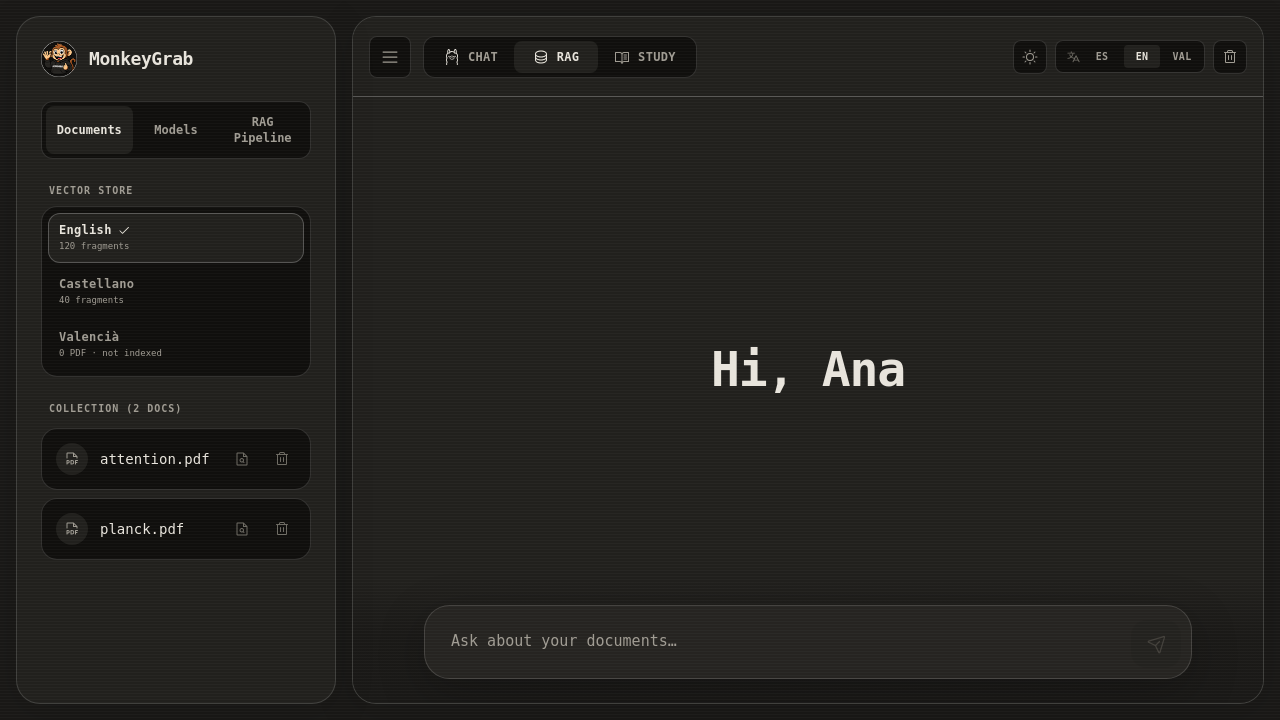
Test case: chat stream handling › sends chat mode to /api/chat
Expected: the text box with placeholder "Ask about your documents…" is shown, top-left (435, 616), bottom-right (1119, 668)
Click the button "CHAT".
click(471, 56)  # box top-left (428, 40), bottom-right (514, 72)
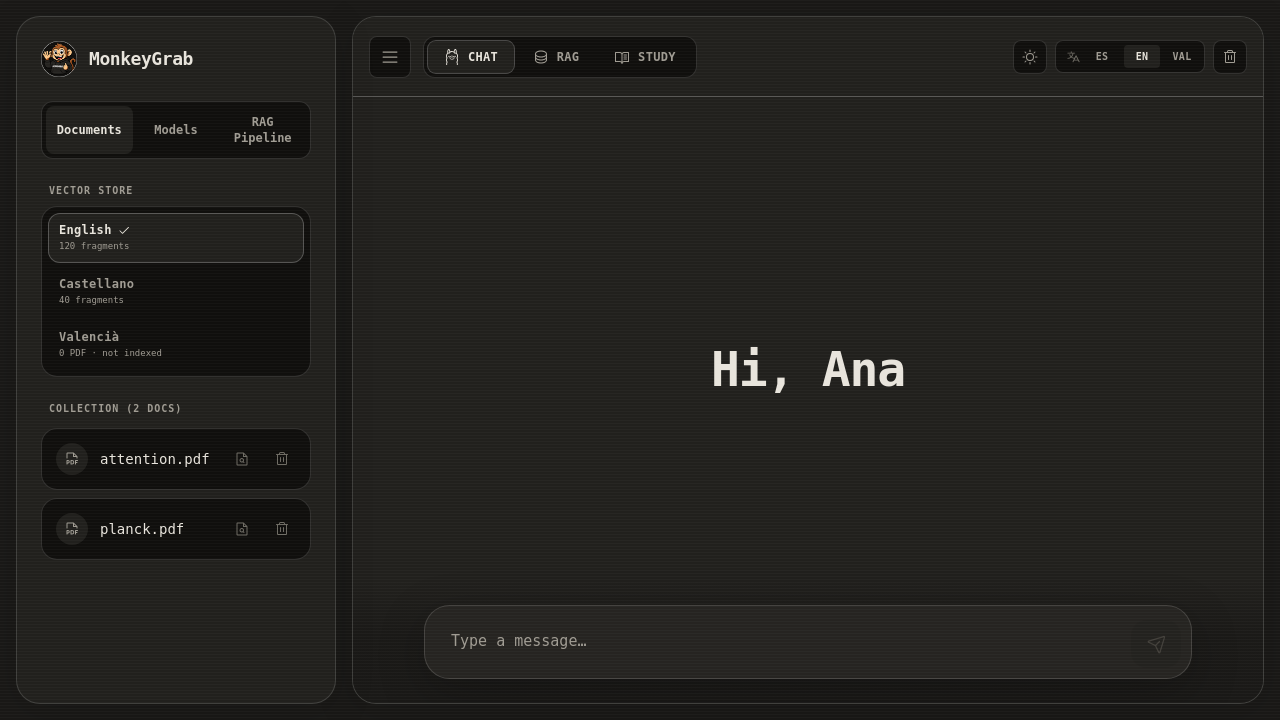
Type "hi" into the text box with placeholder "Type a message…".
click(777, 642); type("hi")  # box top-left (435, 616), bottom-right (1119, 668)
Then press Enter
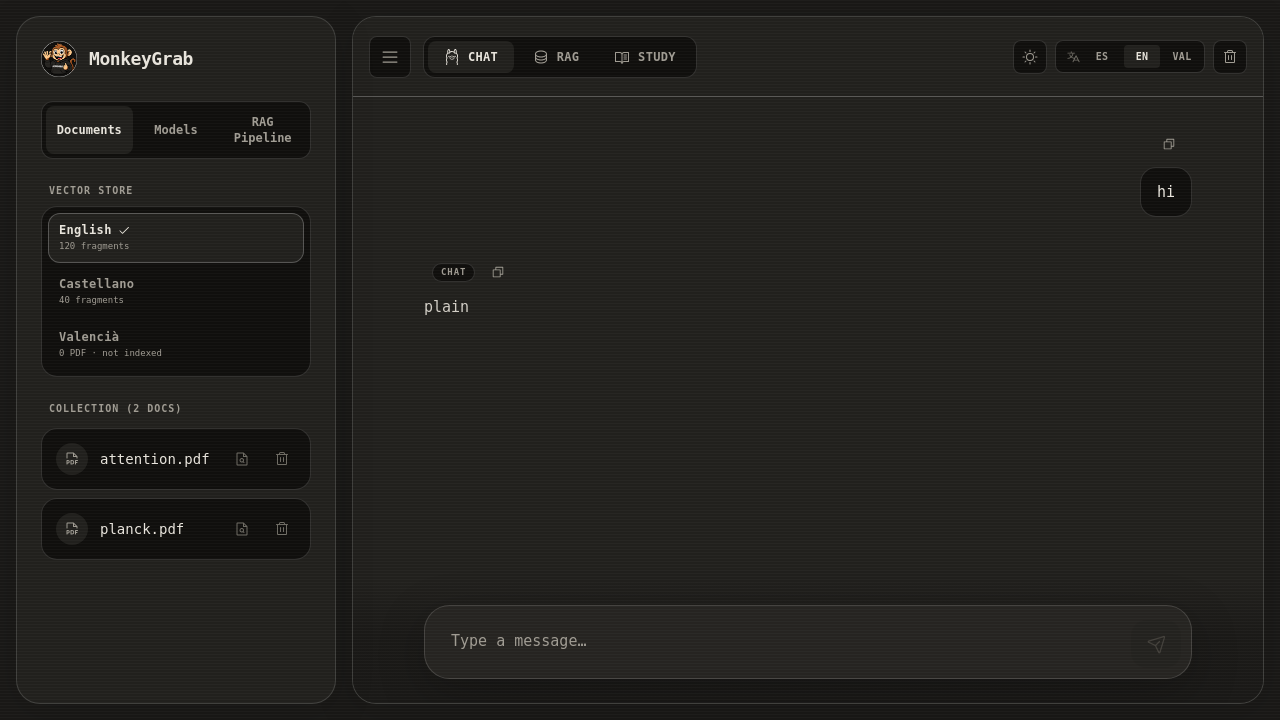
Result: the text "plain" is shown at top-left (424, 295), bottom-right (469, 320)
